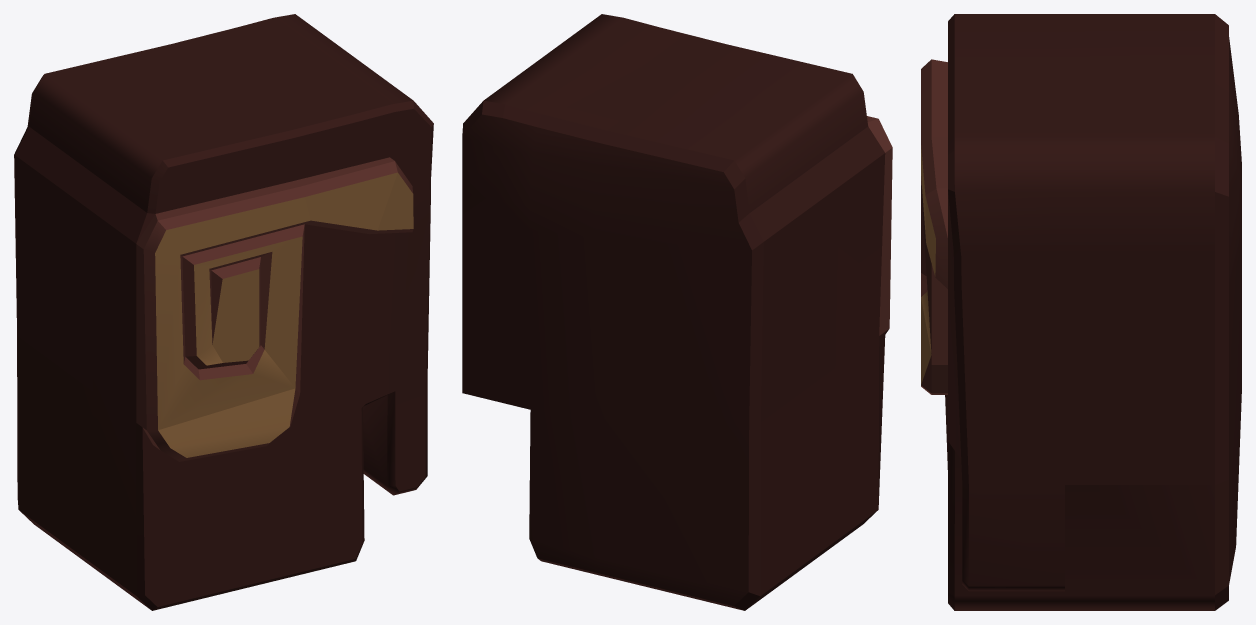
Rendered from SM_pietra_4.fbx.
The picture shows the model from 3 angles, left to right: view 1: azimuth 30°, elevation 25°; view 2: azimuth 150°, elevation 25°; view 3: azimuth 270°, elevation 25°; orthographic projection. The views are drawn at different scales.
Visible parts, largest first — view 1: SM_pietra_4; view 2: SM_pietra_4; view 3: SM_pietra_4.
Part boxes in pixels (left/top/right/bottom): SM_pietra_4: left=14, top=14, right=433, bottom=610; SM_pietra_4: left=462, top=14, right=892, bottom=610; SM_pietra_4: left=921, top=14, right=1241, bottom=610.
Bounding box in the file's own units: 914 × 1301 × 767.
